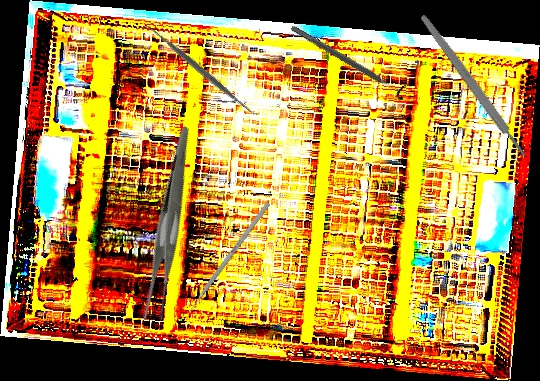Dressing Forceps: (95, 125, 247, 328)
Fixation Ring: (286, 18, 412, 103)
Pusher: (181, 201, 271, 322)
Scalpel Handle: (418, 12, 529, 160)
Spatula Surgical: (138, 16, 262, 124)
